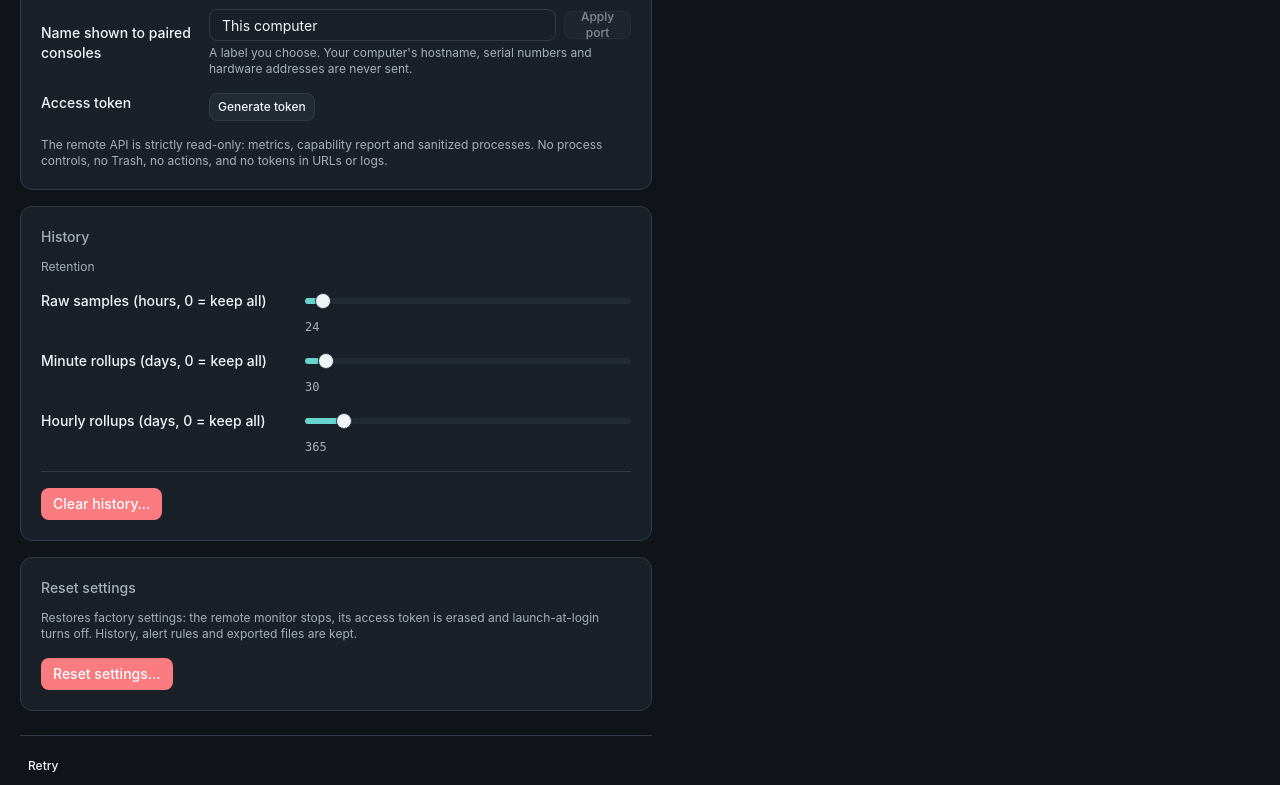
it: SettingsPage factory reset › requires confirmation, resets once and reports success
(page scrolled)
Click the button "Reset settings…" at (107, 674), box [41,658,172,690]
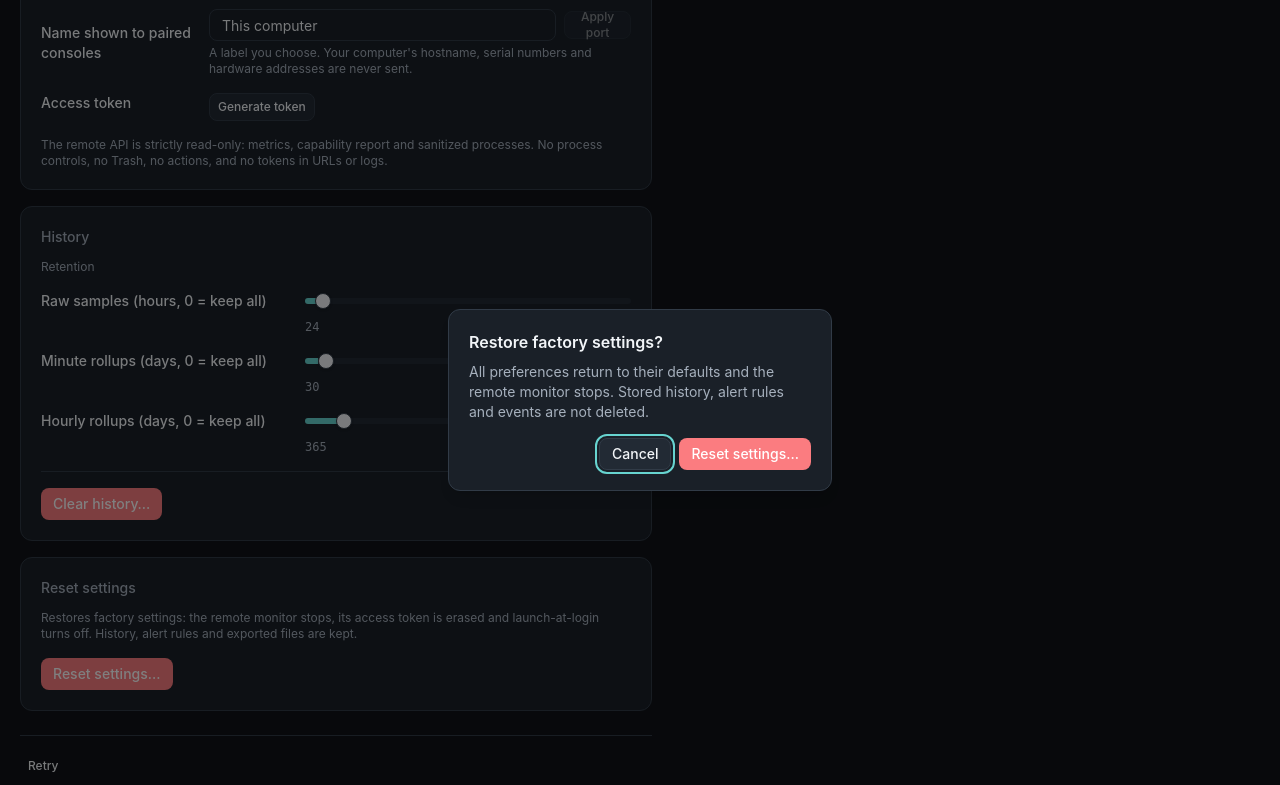
Expected: the dialog is shown, [448,309,832,491]
Click the button "Reset settings…" at (745, 454), box [680,438,811,470]
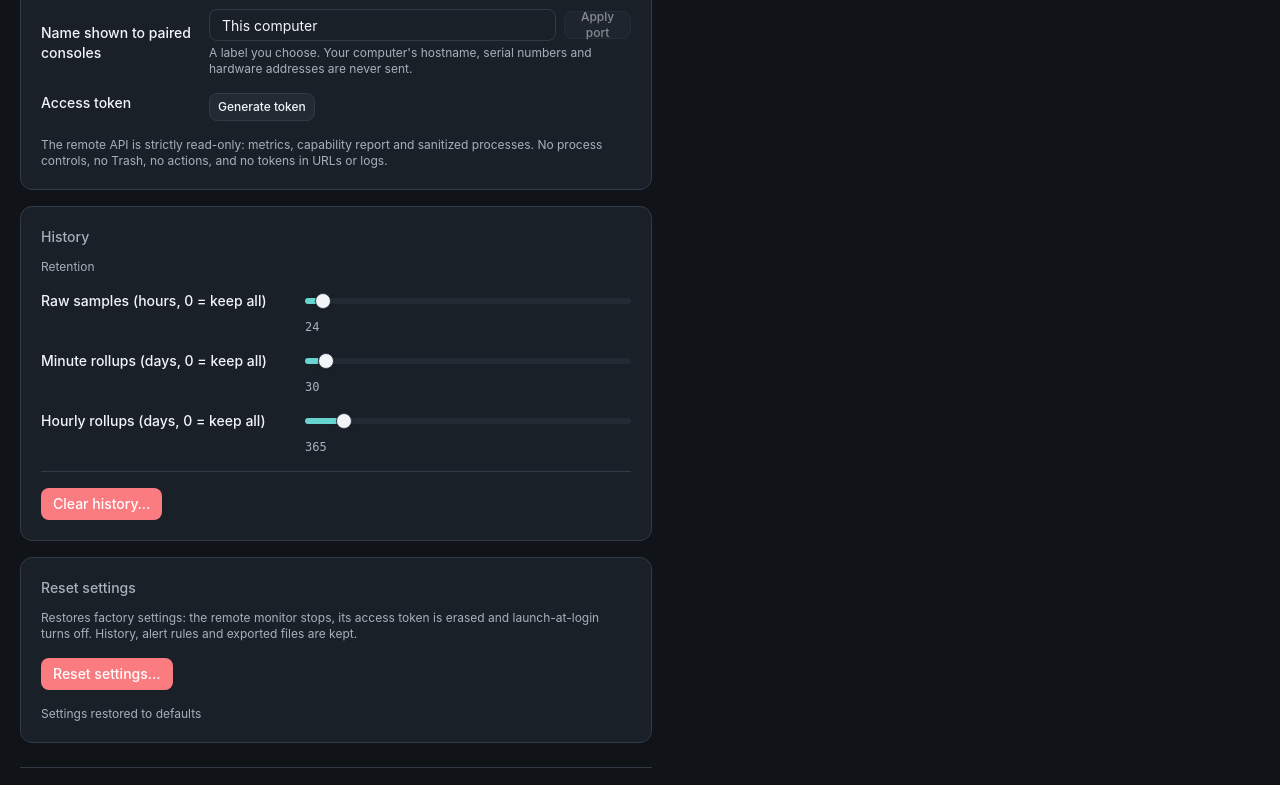
Expected: the text "Settings restored to defaults" is shown, [41,706,201,721]
